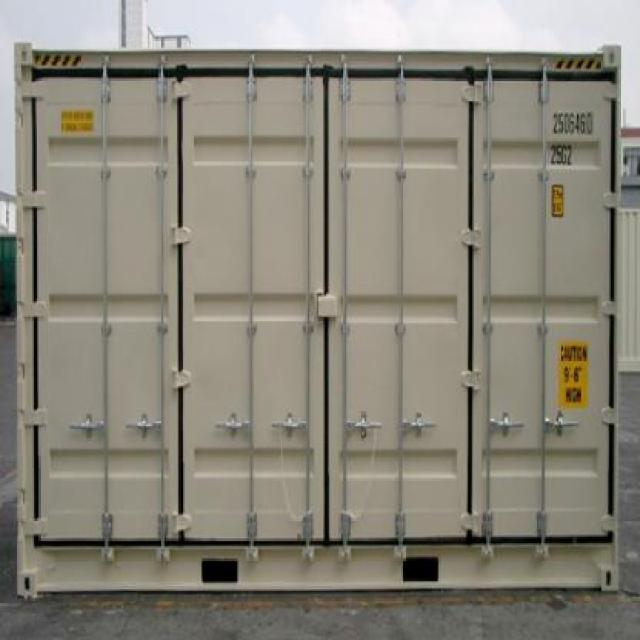ISO: (550, 144, 575, 164)
container_number: (552, 108, 600, 136)
